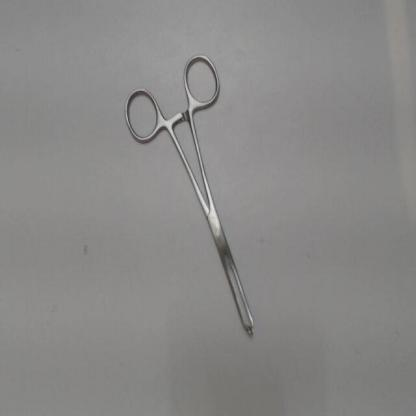Allis Tissue Forceps: (118, 45, 262, 346)
